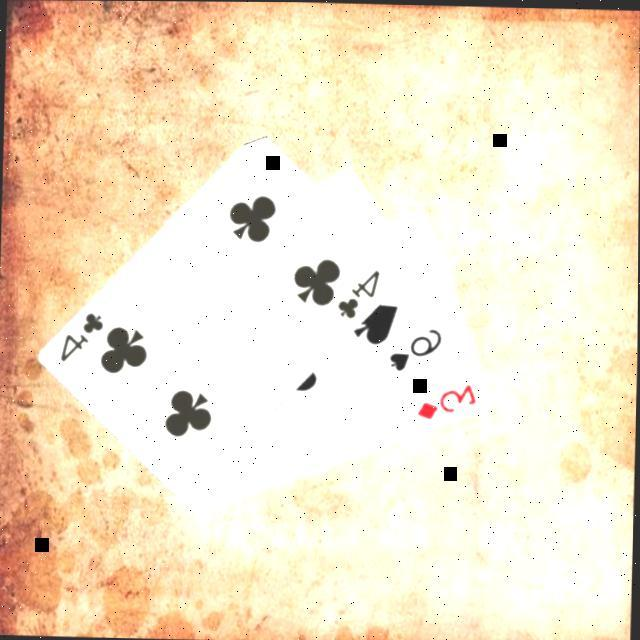3D: (414, 380, 481, 426)
4C: (58, 310, 109, 368), (335, 266, 385, 324)
6S: (387, 325, 447, 376)
